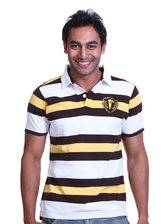clothoes: (24, 63, 149, 218)
